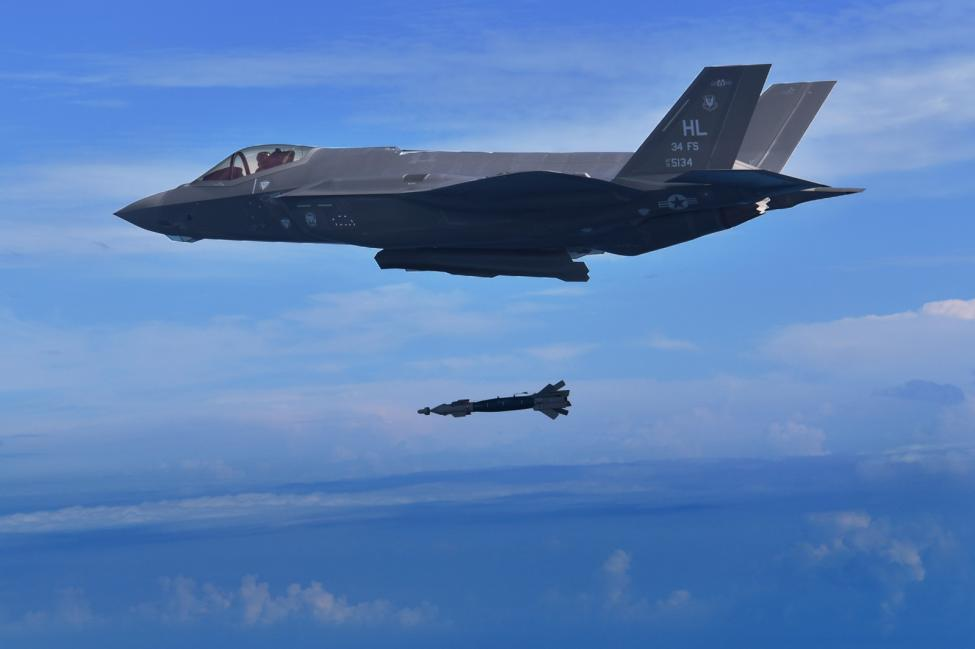F-35 Lightning: (94, 51, 866, 295)
